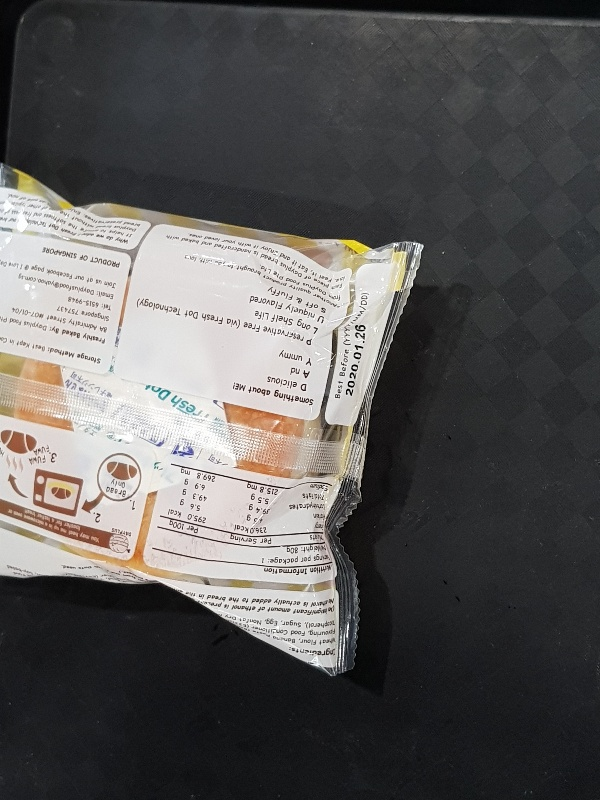Dayplus Banana: (1, 160, 424, 675)
